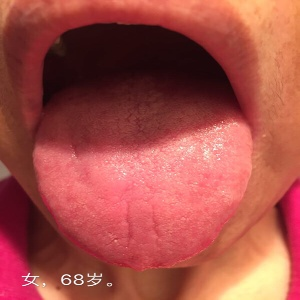st: (39, 111, 259, 263)
